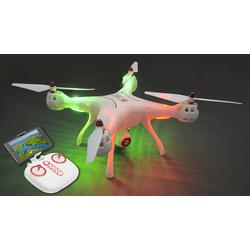drone: (8, 60, 244, 179)
